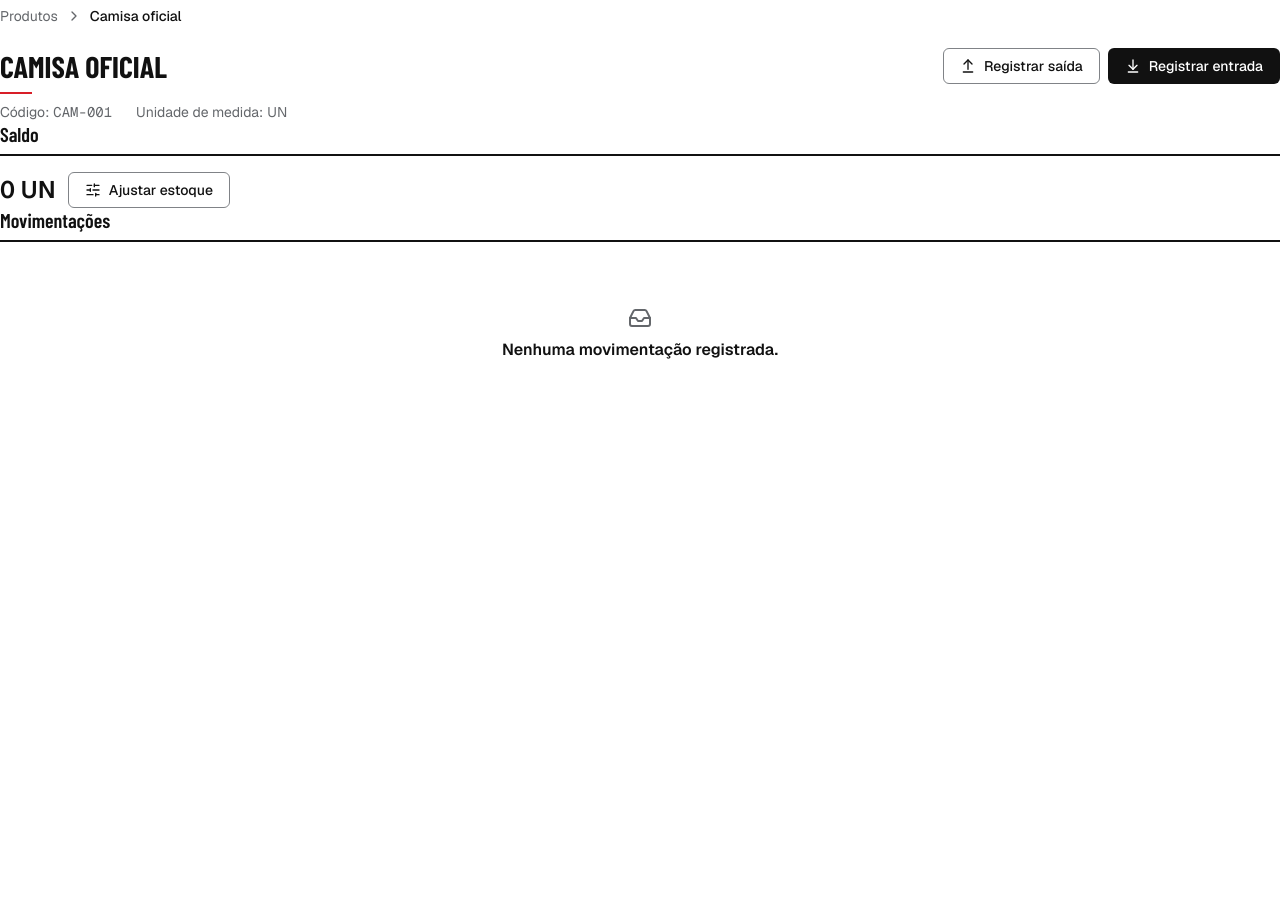
ajuste com sucesso › −3 num produto com saldo 0: avisa o negativo, envia e atualiza saldo e histórico
The image size is (1280, 900).
Expected: the text with test id "saldo-valor" reads "0 UN", [0,174,56,205]
Click the button "Ajustar estoque" at (149,190), box [68,172,230,208]
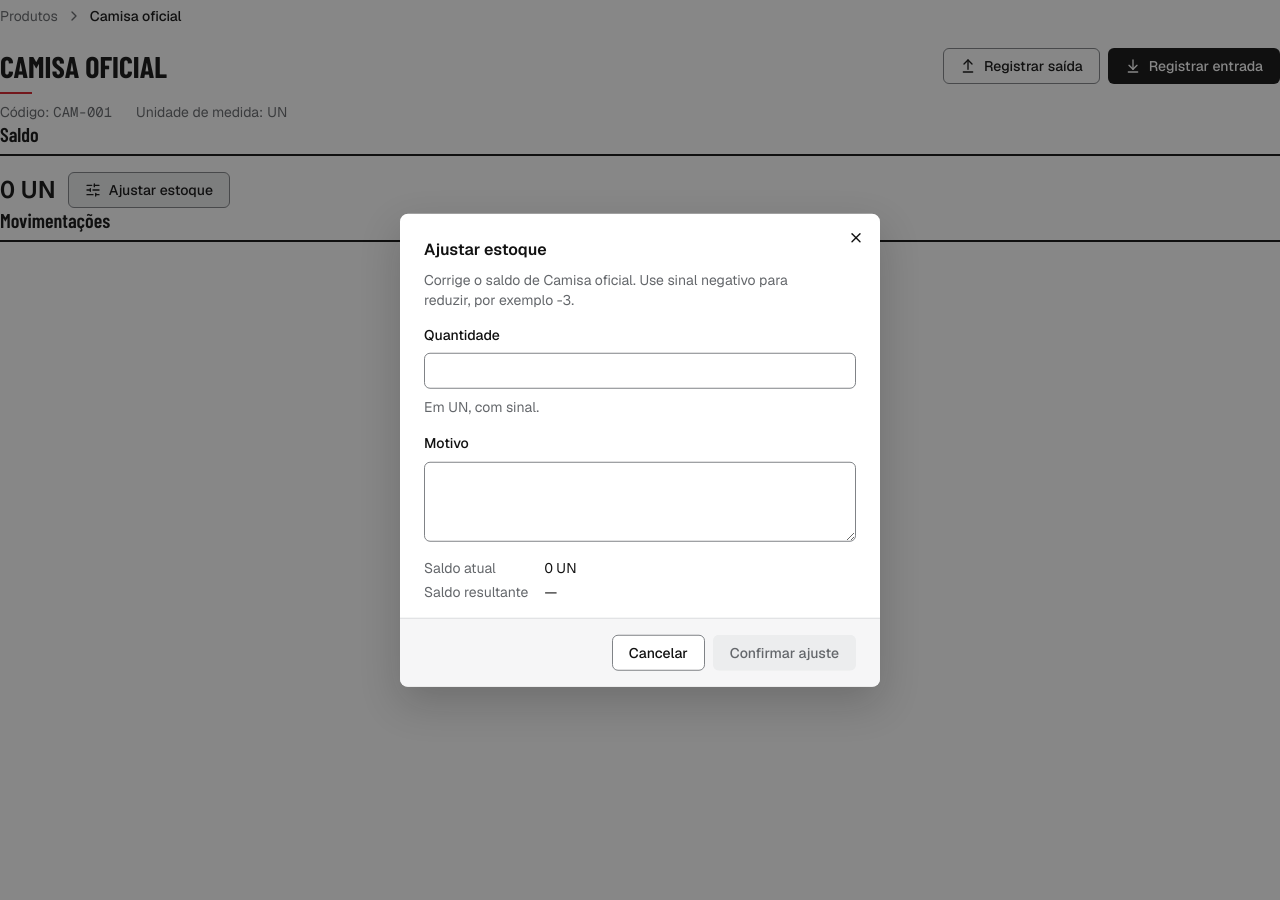
Type "-3" into the field labelled "Quantidade" at (640,371), box [424,353,856,389]
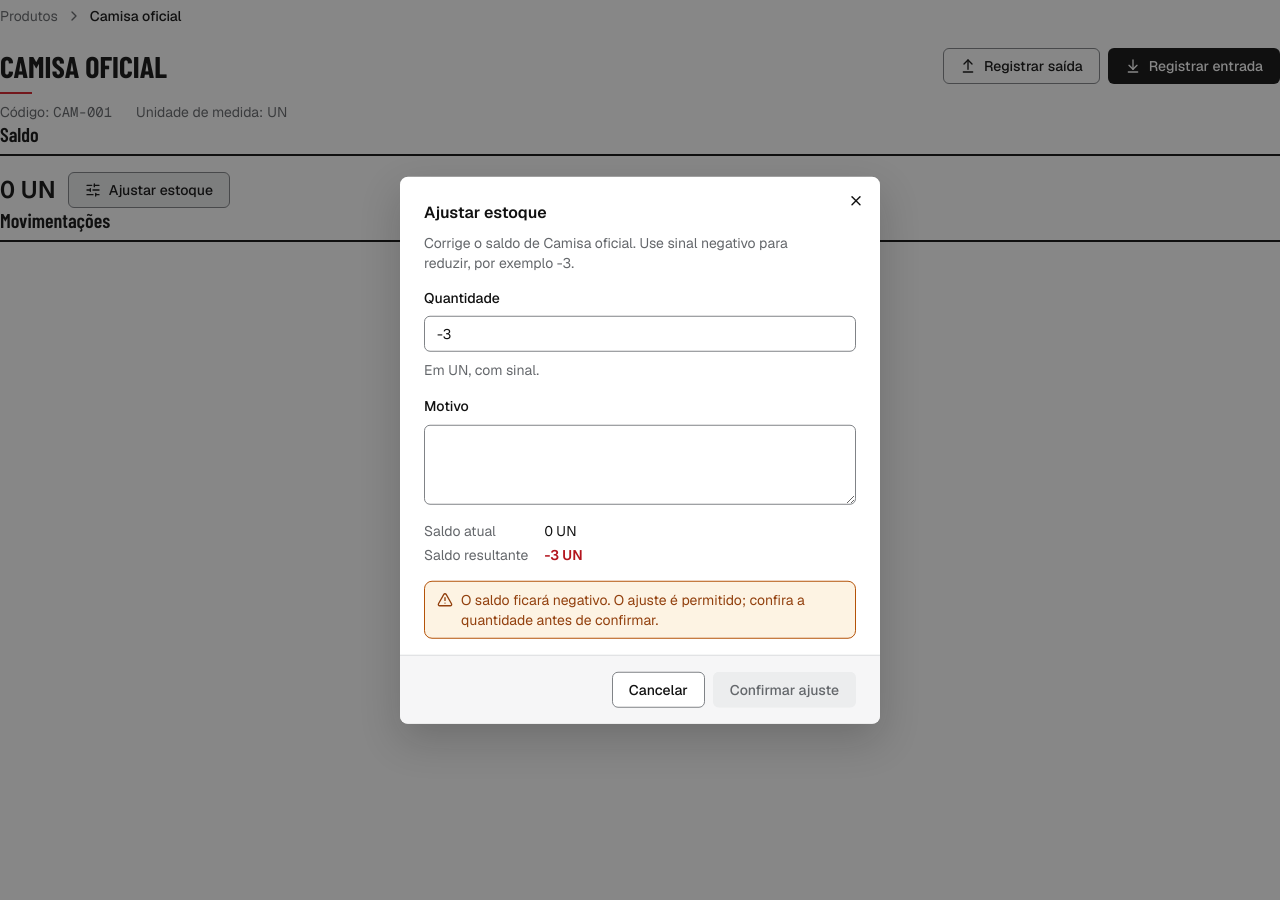
Type "  Contagem física do inventário  " into the text box labelled "Motivo" at (640,464), box [424,424,856,504]
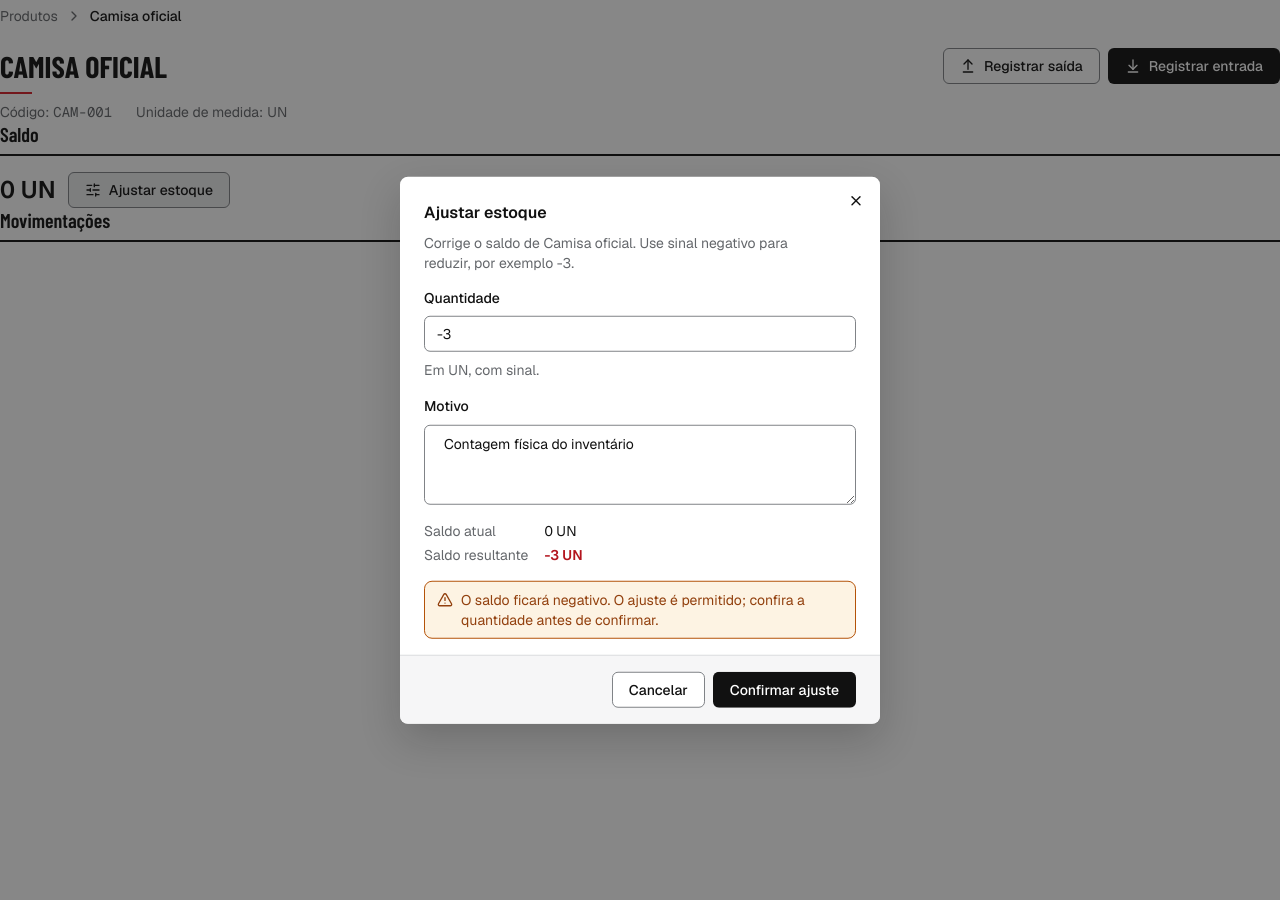
Now the text with test id "ajuste-saldo-resultante" reads "-3 UN", box [544,545,583,563]
Now the text "O saldo ficará negativo." is shown, box [461,590,805,628]
Now the button "Confirmar ajuste" is enabled
Click the button "Confirmar ajuste" at (784,689), box [713,671,856,707]
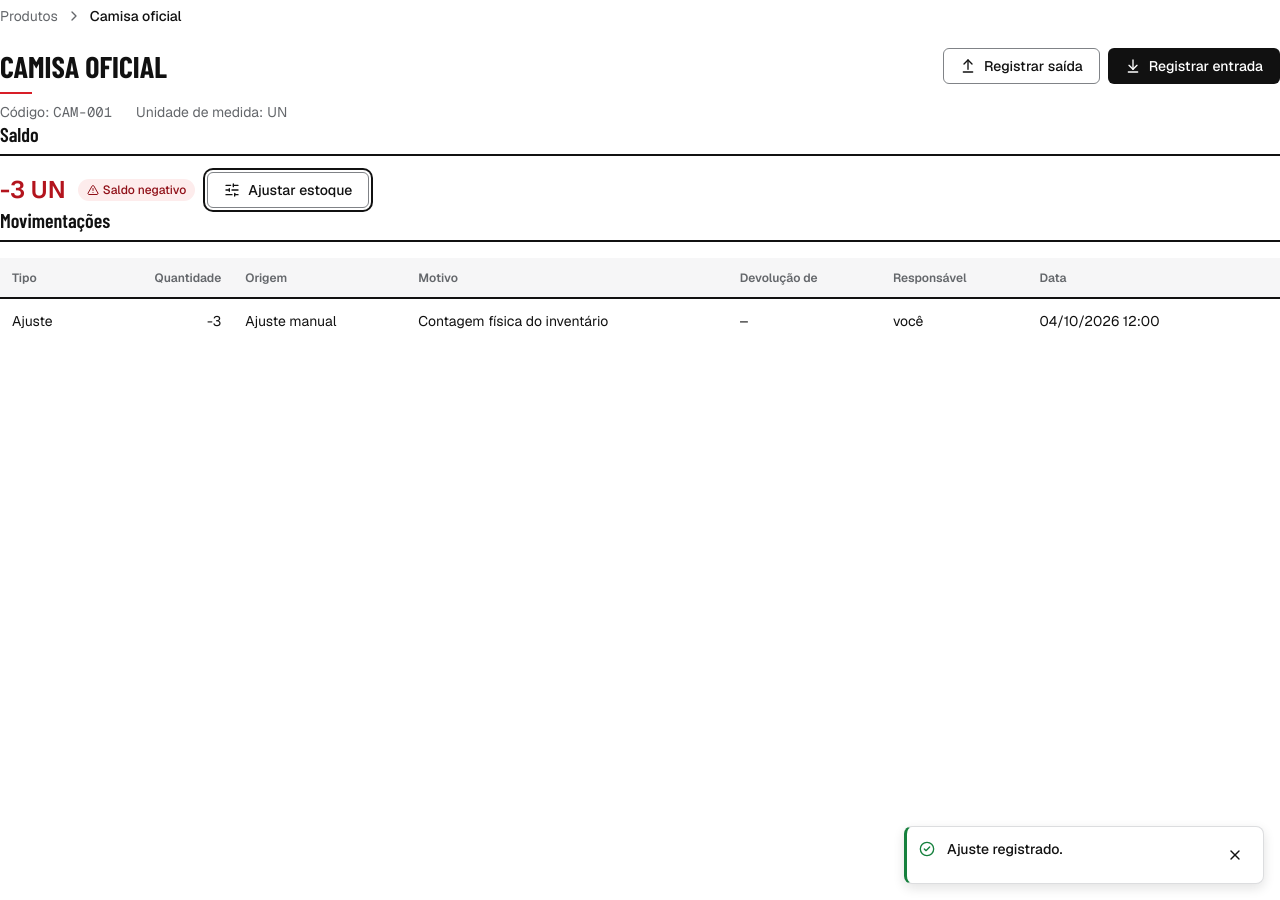
Now the text with test id "saldo-valor" reads "-3 UN", box [0,174,66,205]
